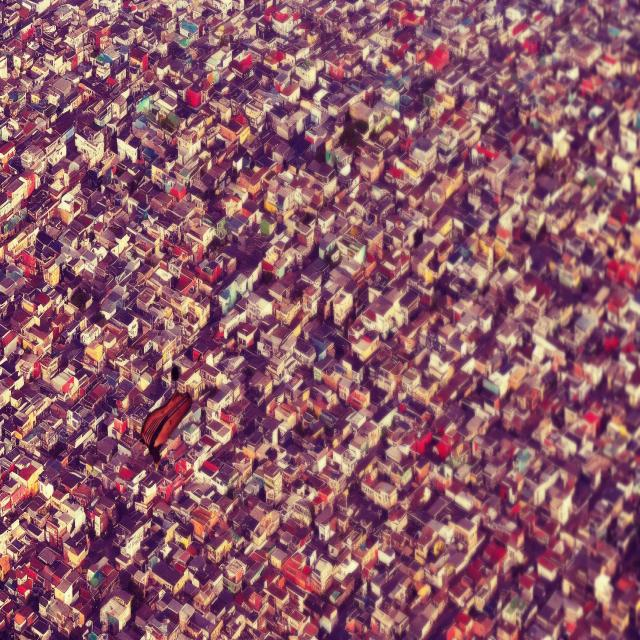airplane: (142, 391, 194, 462)
